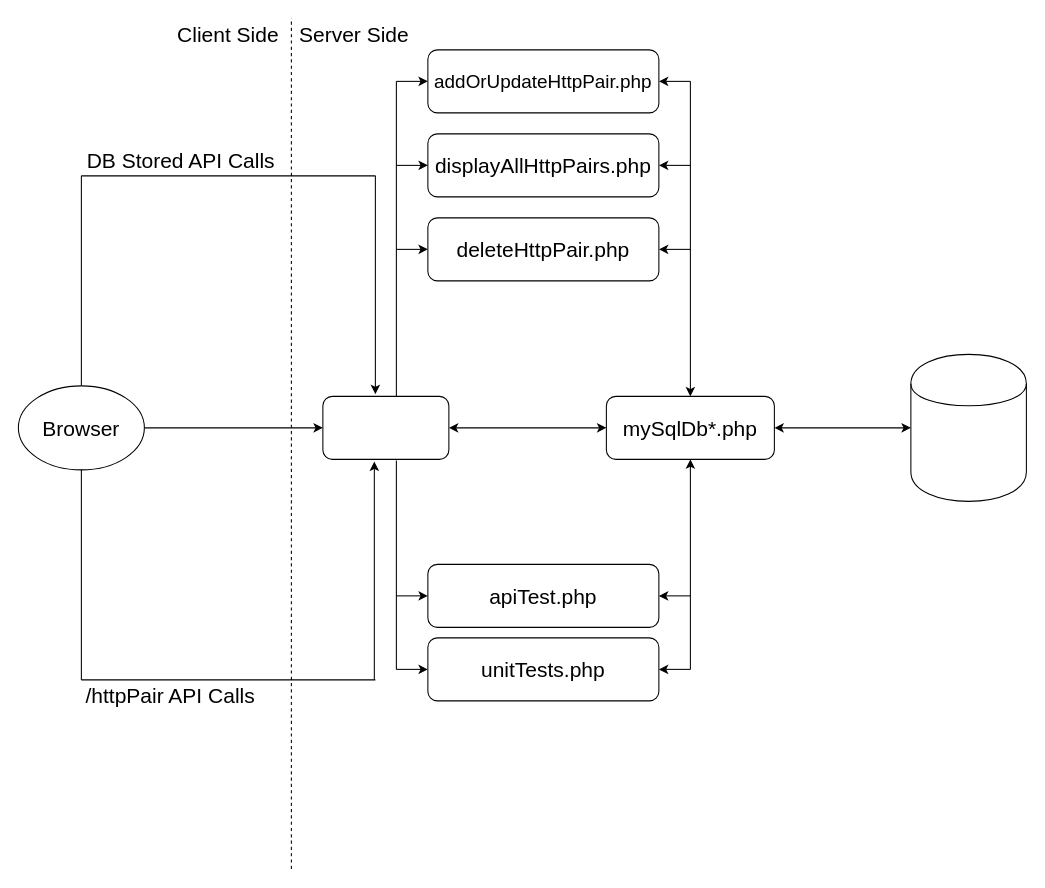
The diagram is 1045 pixels wide and 888 high, and some of its shapes have lost their labels. The shapes that lost their labels are listed below. From the top down, each one's centre as x and y in pixels, then its label:
the point at 385,427: index.php
the point at 968,427: MySQL DB
